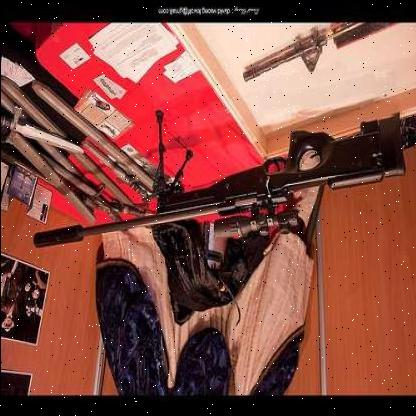rifle: (31, 96, 406, 272)
